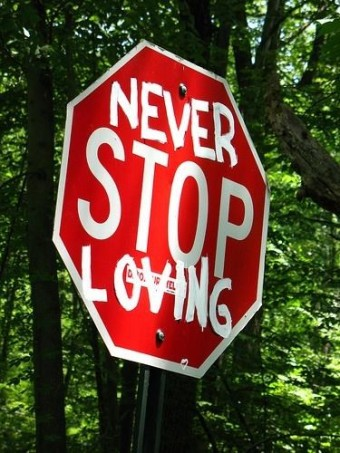SS: (64, 43, 263, 376)
